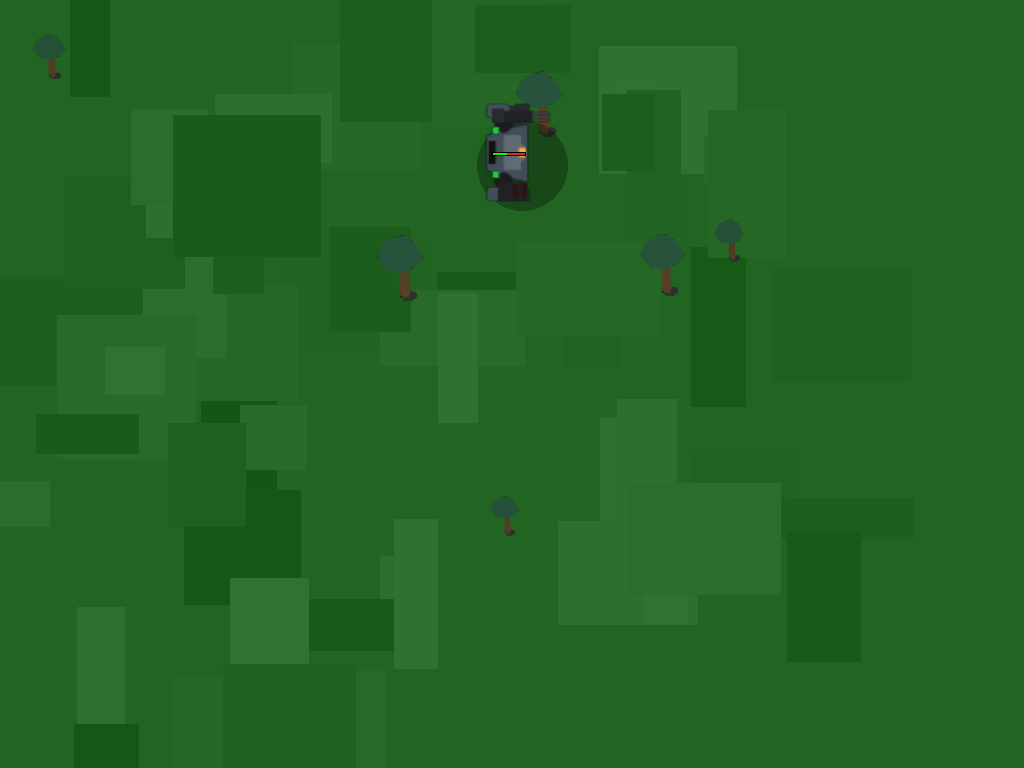HeavyMech: (475, 118, 542, 185)
